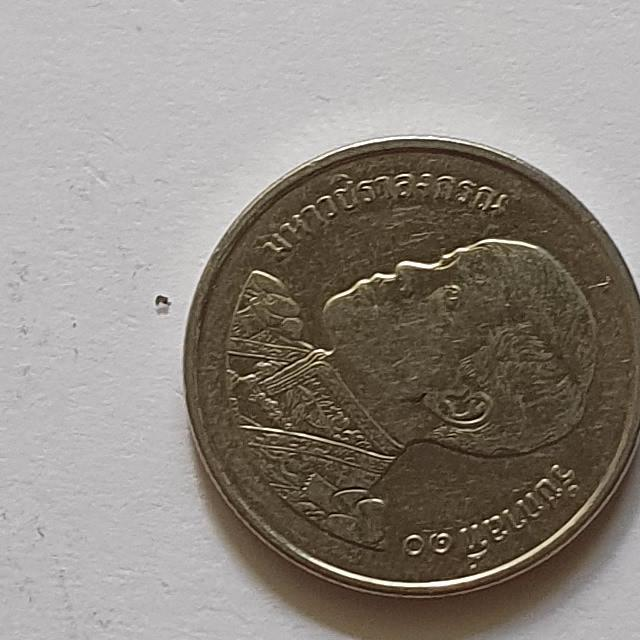1 Bath: (178, 131, 640, 610)
